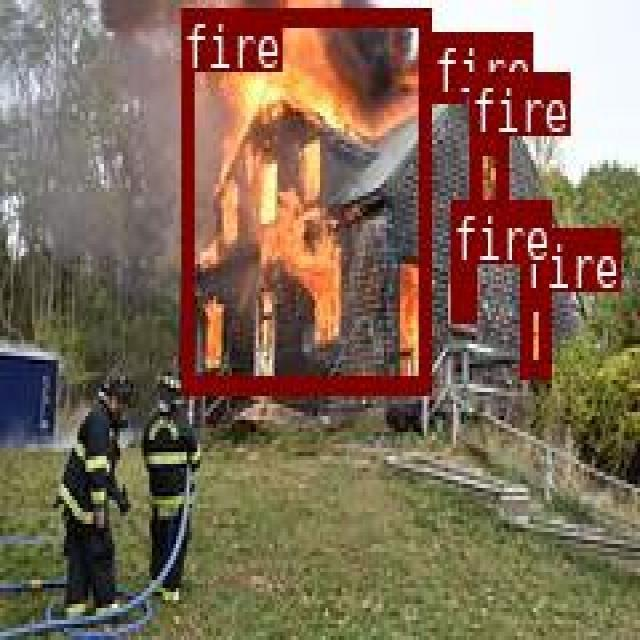fire: (179, 8, 429, 390), (467, 133, 506, 217), (520, 289, 547, 375), (430, 31, 461, 100), (450, 260, 472, 320)
